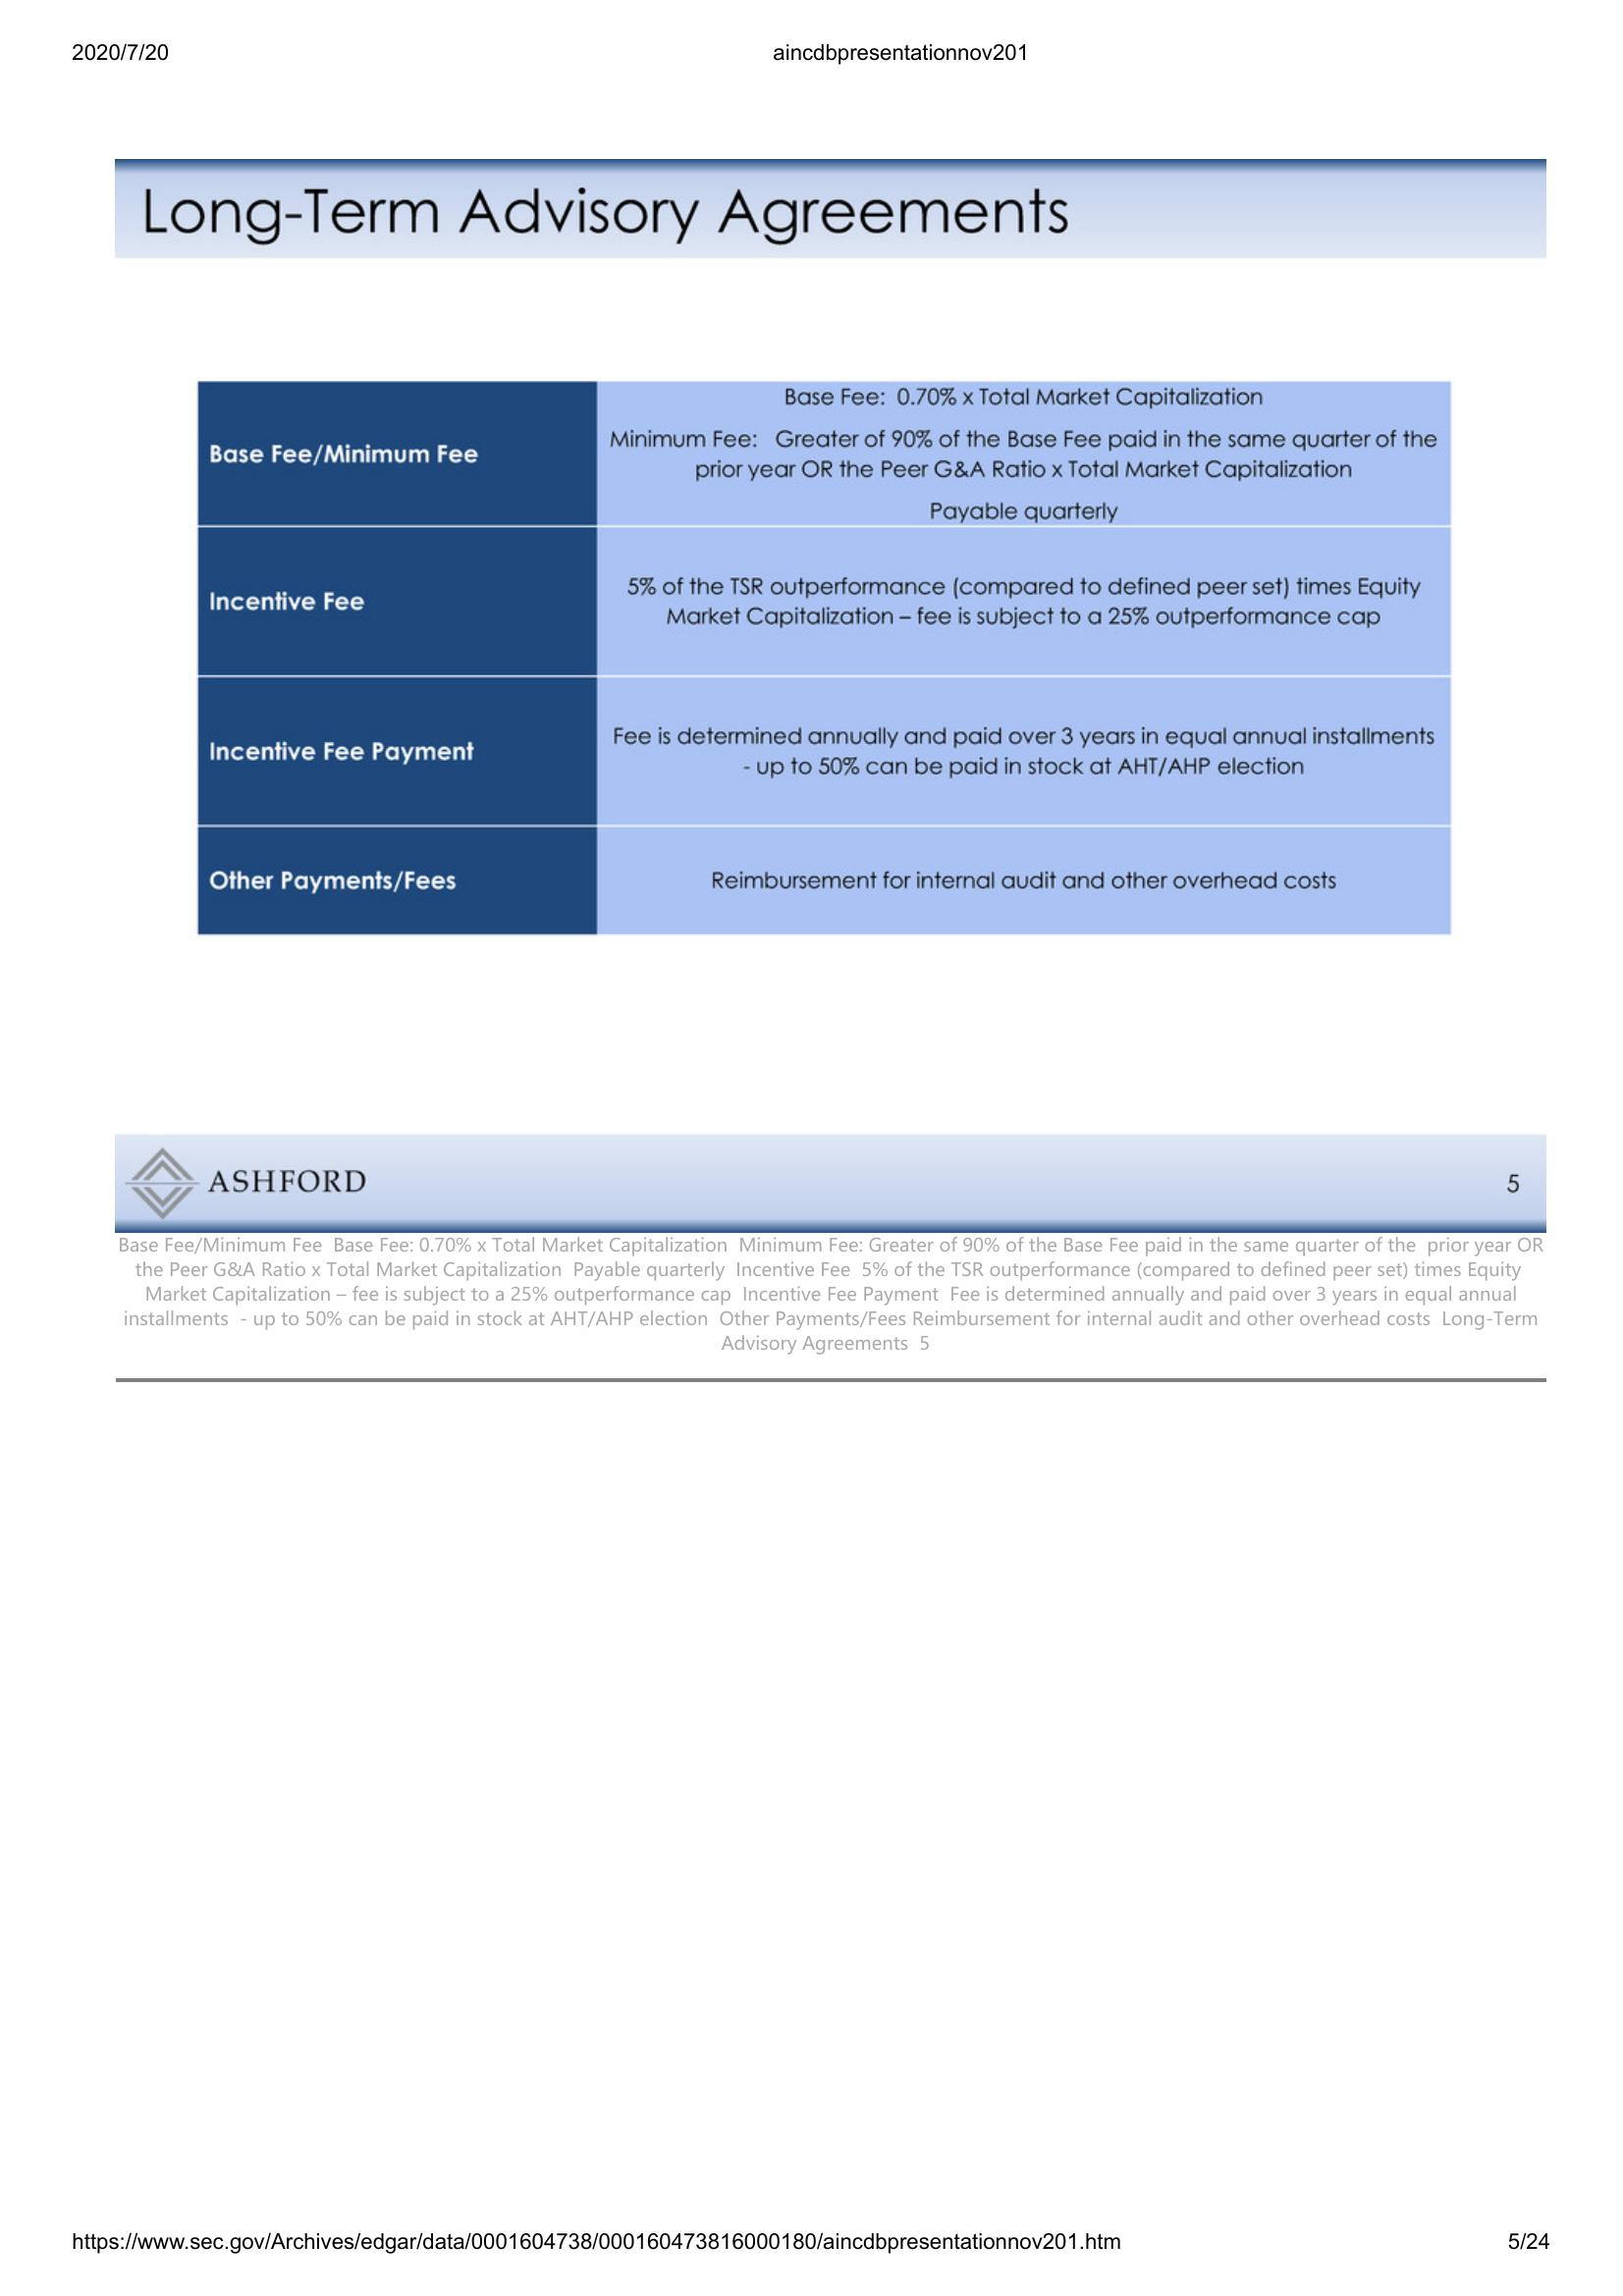table: (193, 374, 1458, 943)
